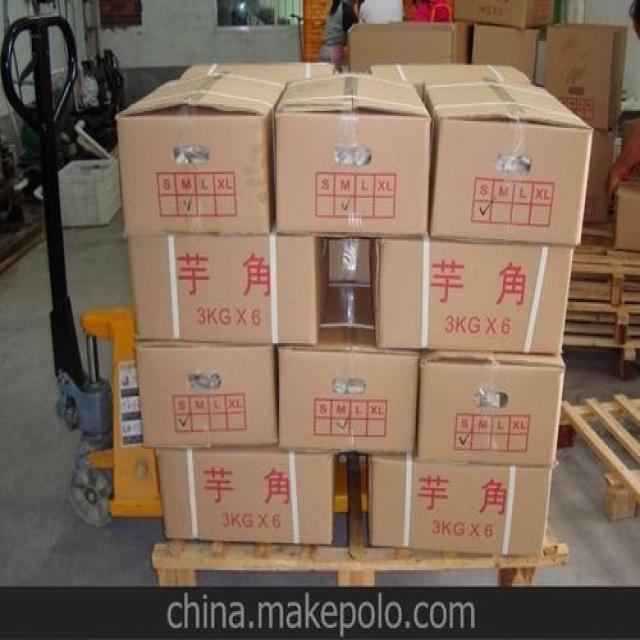box: (115, 73, 287, 239), (422, 80, 593, 246), (274, 73, 431, 239), (127, 220, 329, 345), (278, 287, 422, 454), (371, 236, 573, 355), (366, 447, 552, 556), (155, 445, 337, 544), (416, 350, 564, 468), (134, 340, 278, 449), (545, 20, 627, 131), (348, 22, 474, 73), (370, 65, 531, 97), (471, 20, 540, 82), (585, 121, 618, 222), (179, 61, 333, 82), (453, 0, 554, 29), (329, 239, 371, 287), (614, 179, 640, 251), (622, 116, 640, 150)
